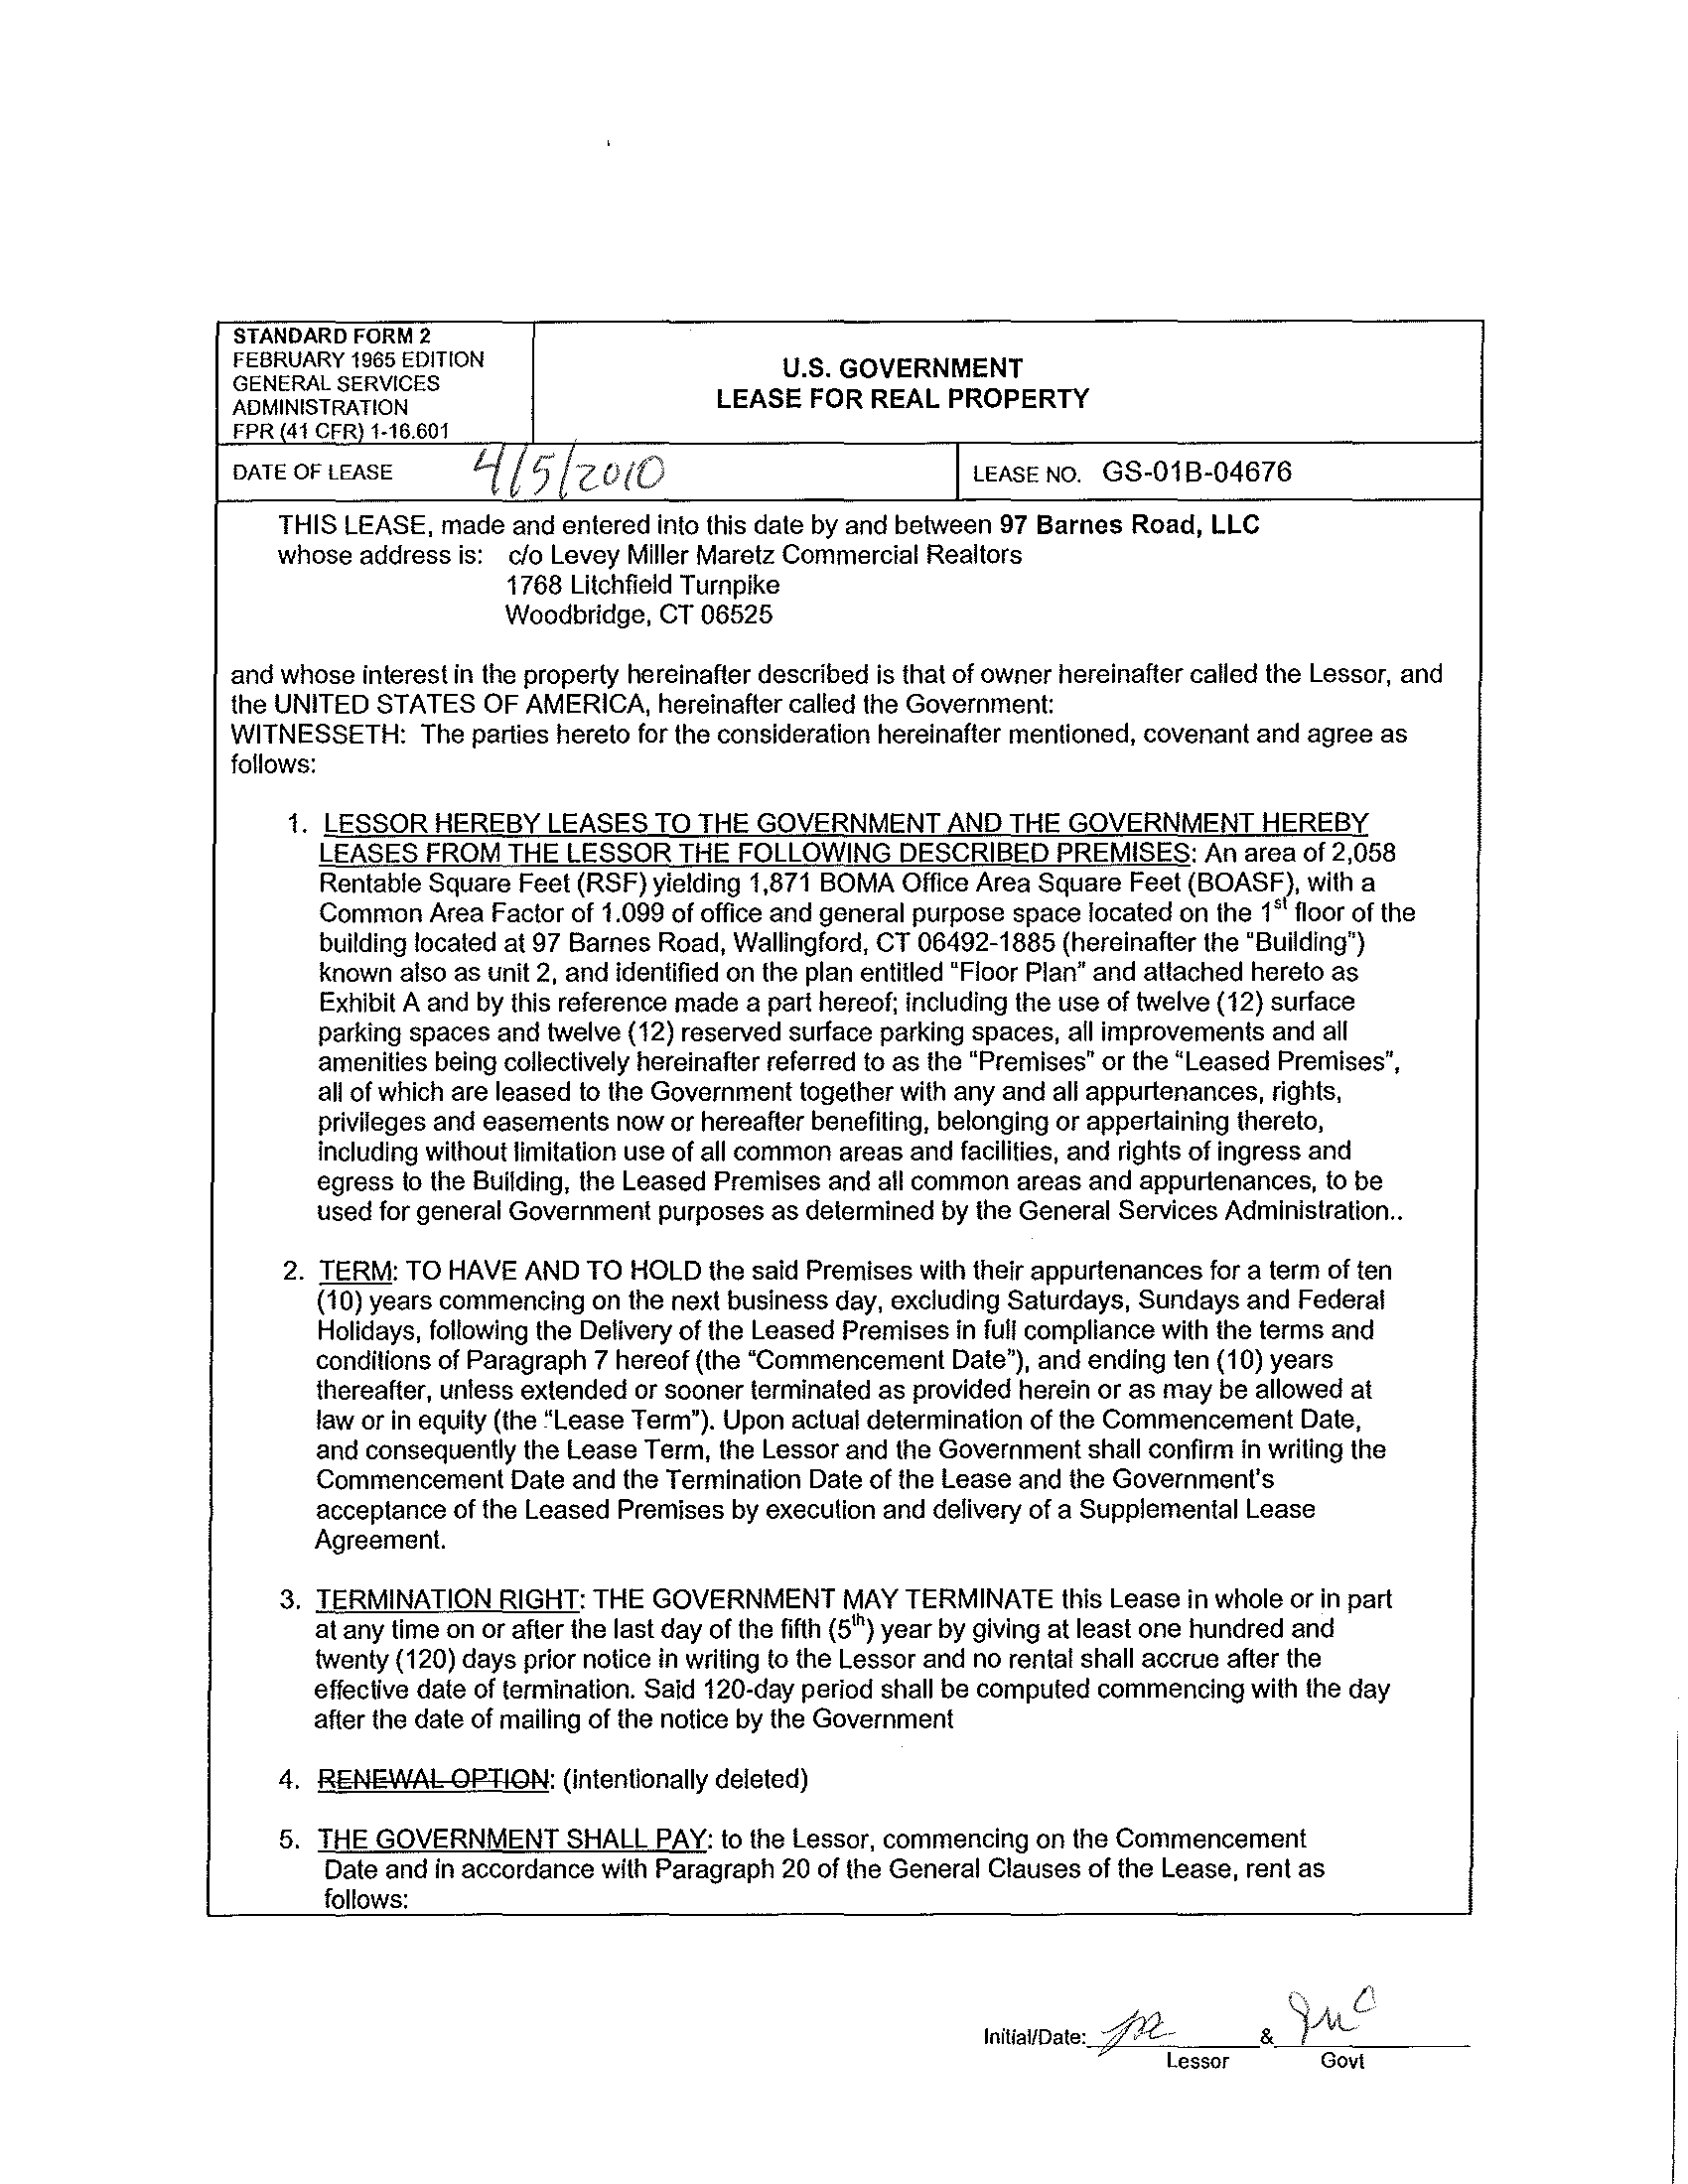handwritten: (1277, 1962, 1394, 2042), (1089, 1998, 1204, 2049)
